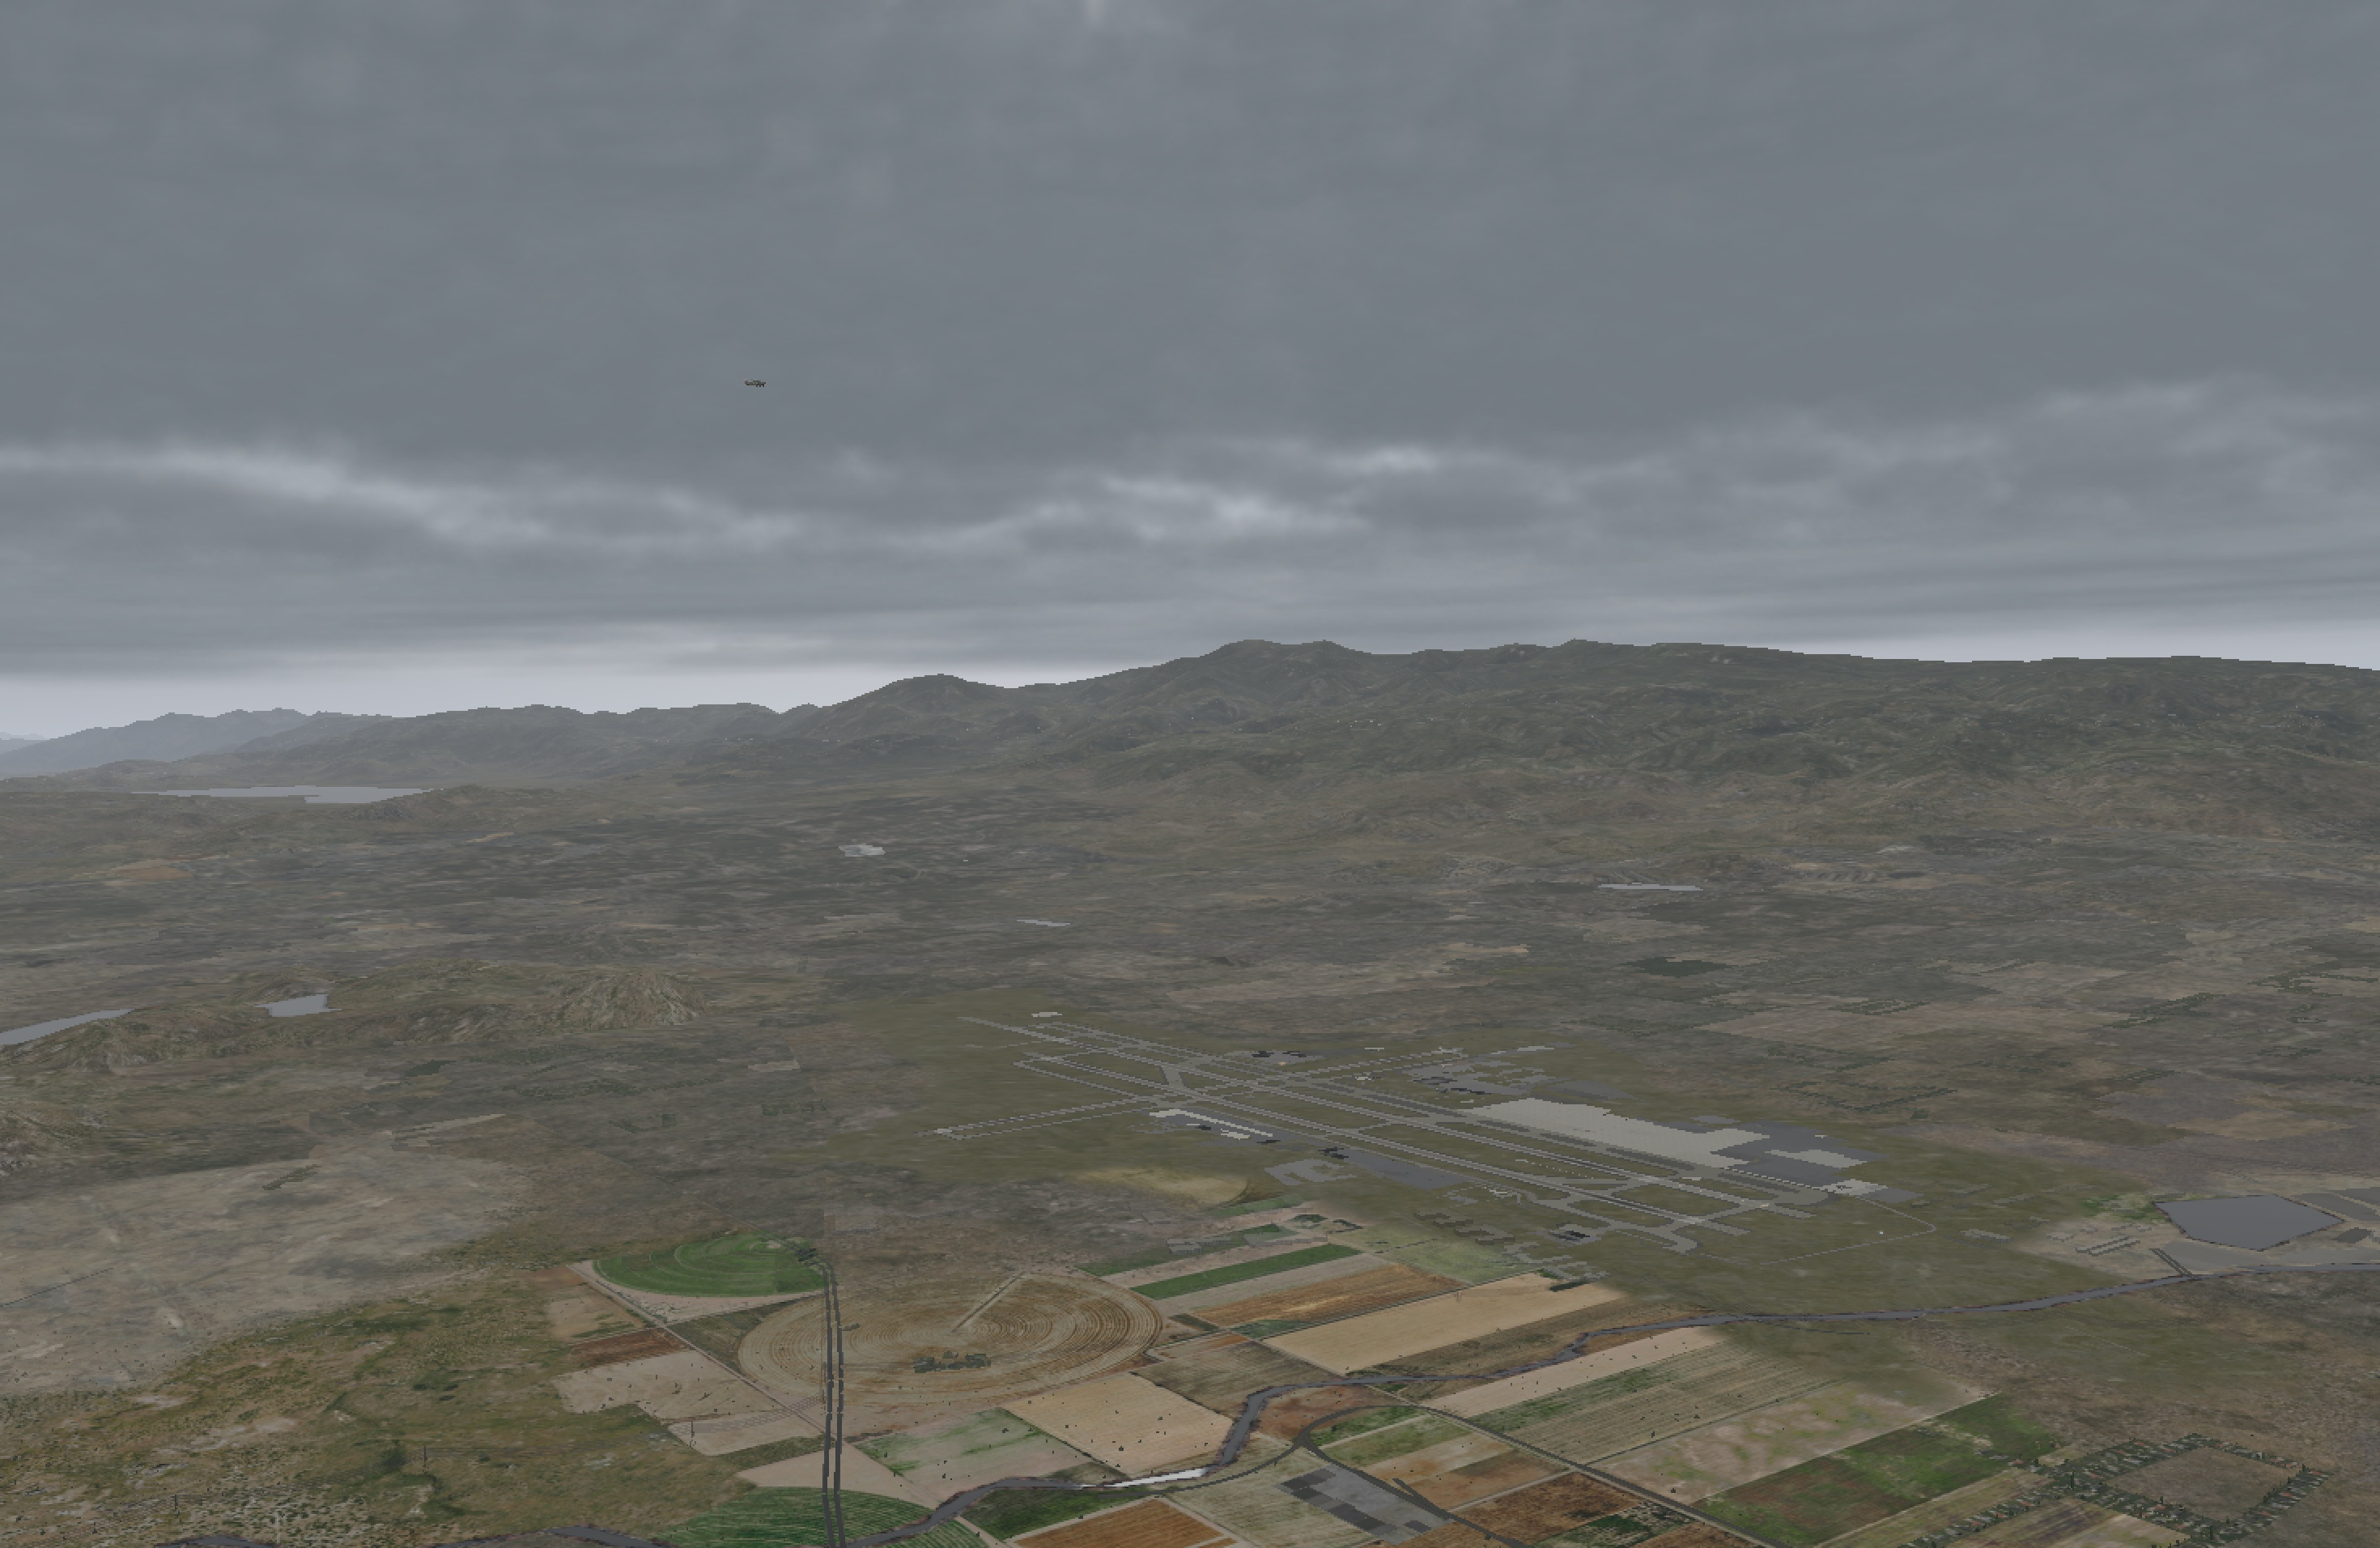aircraft: (749, 378, 770, 387)
